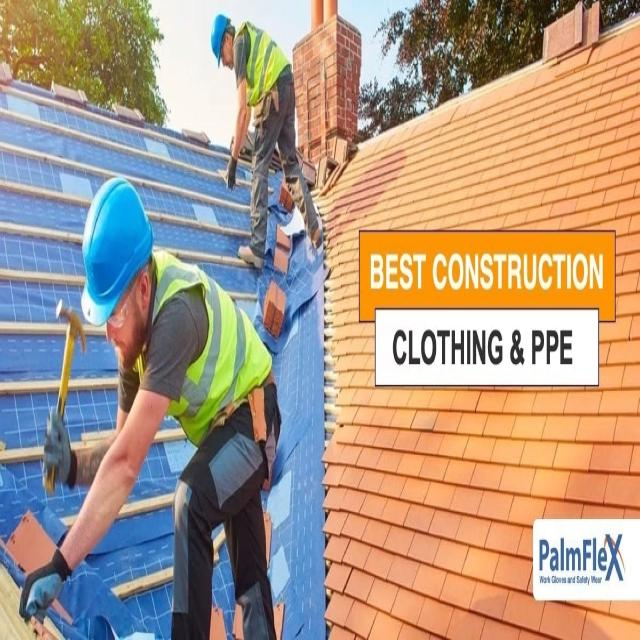goggles: (104, 275, 146, 340), (217, 37, 227, 66)
helmet: (80, 173, 156, 327), (208, 9, 230, 69)
vest: (151, 241, 274, 454), (237, 14, 288, 108)
